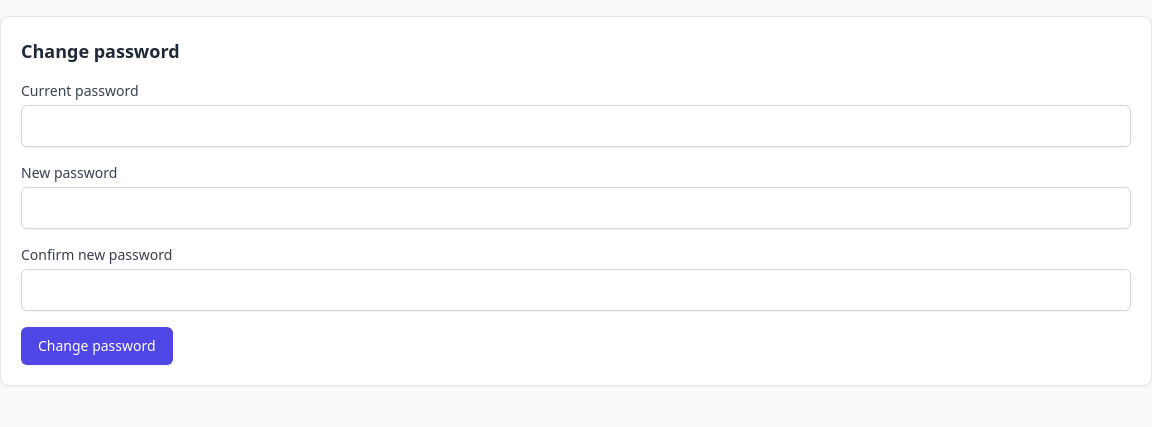
Test: ChangePasswordForm › shows the server message under the current password field
The width and height of the screenshot is (1152, 427).
Type "wrong-password" into the password field labelled "Current password".
click(576, 126); type("wrong-password")  # box 21,105 -> 1131,147
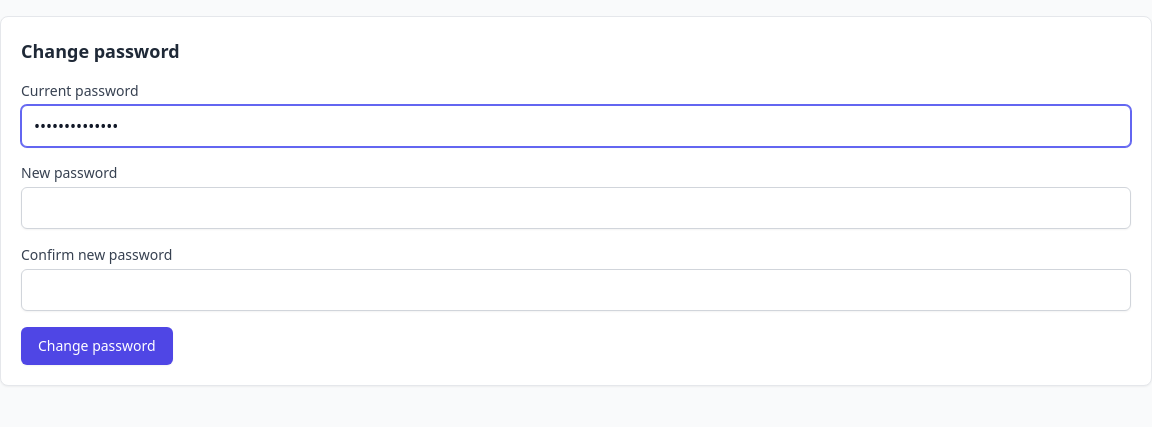
Type "newsecret5678" into the password field labelled "New password".
click(576, 208); type("newsecret5678")  # box 21,187 -> 1131,229
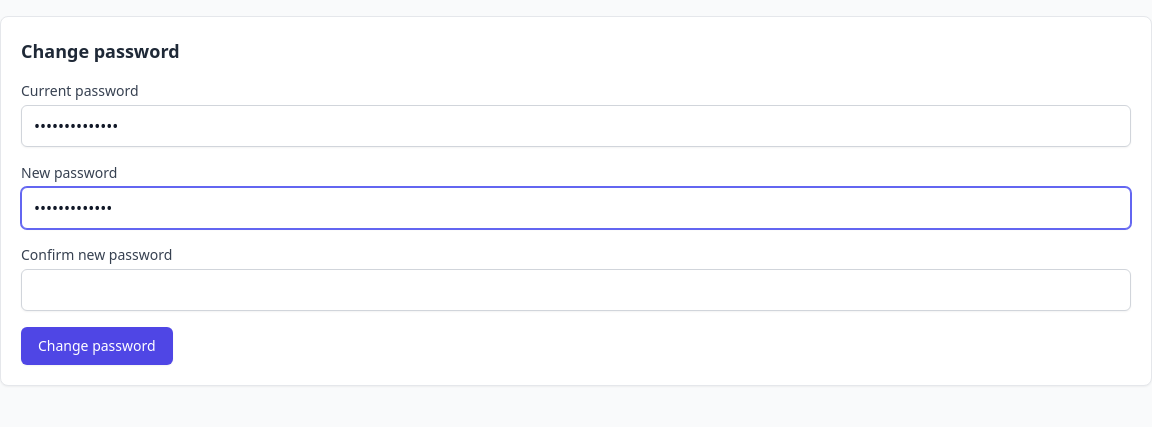
Type "newsecret5678" into the password field labelled "Confirm new password".
click(576, 290); type("newsecret5678")  # box 21,269 -> 1131,311
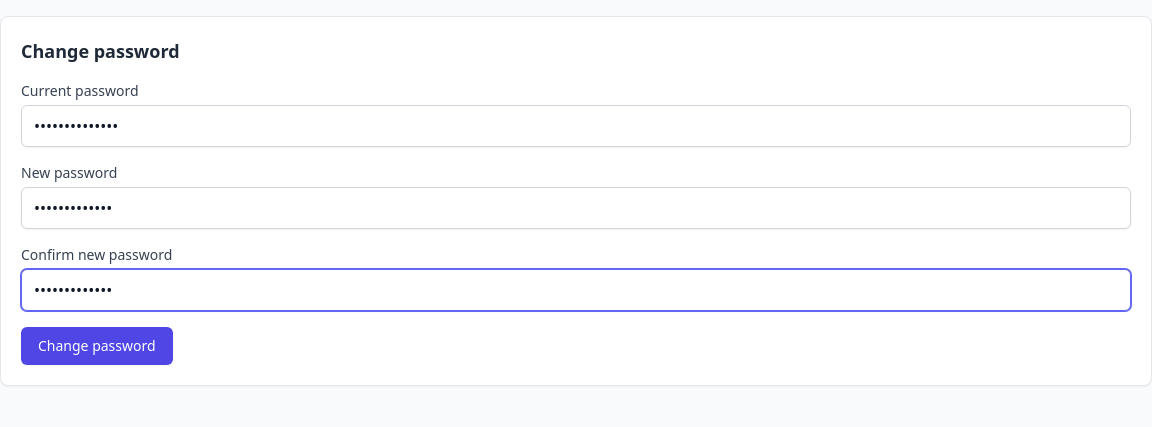
Click the button "Change password".
click(97, 346)  # box 21,327 -> 173,365
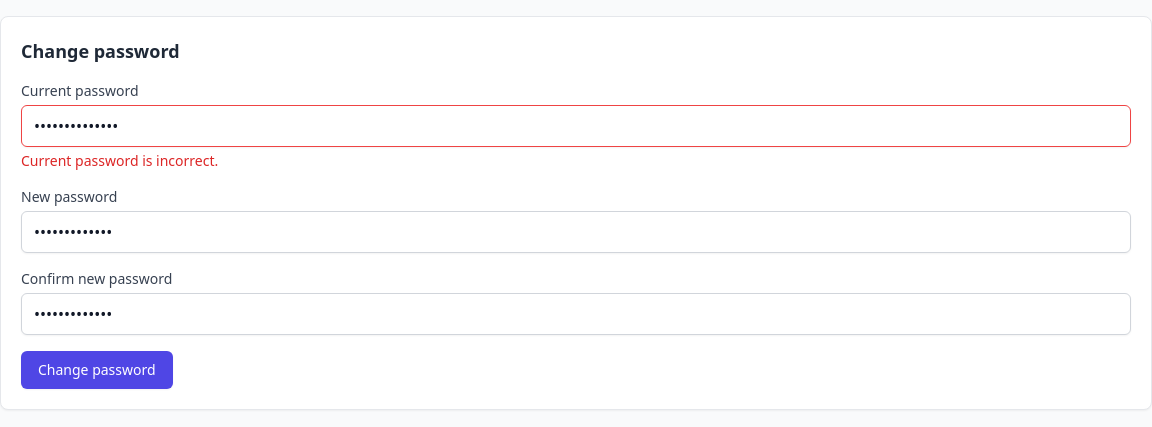
expect the text "Current password is incorrect." is shown: met, box 21,151 -> 218,170
